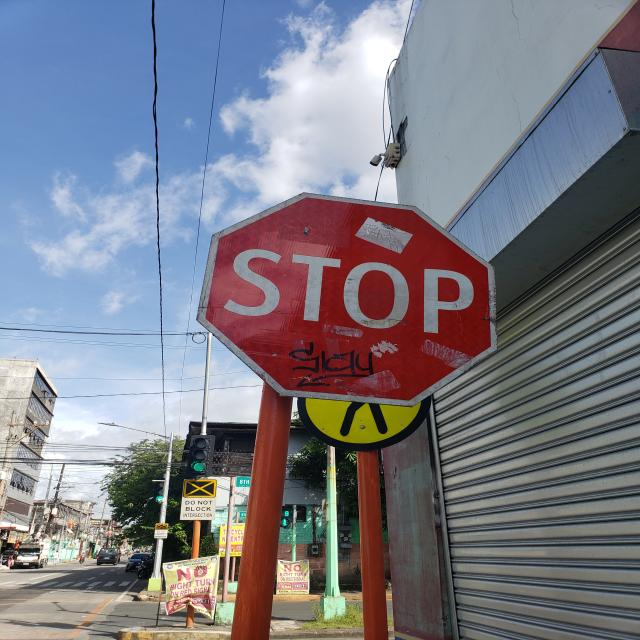stop-sign: (195, 191, 498, 407)
